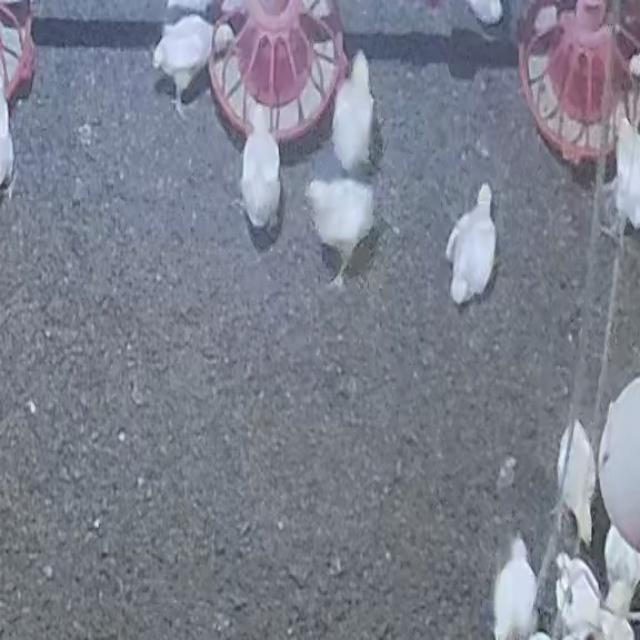chicken: (147, 12, 236, 116), (302, 172, 378, 290), (444, 182, 502, 310), (328, 48, 387, 168), (552, 418, 598, 548), (241, 100, 283, 242), (490, 528, 542, 636)
